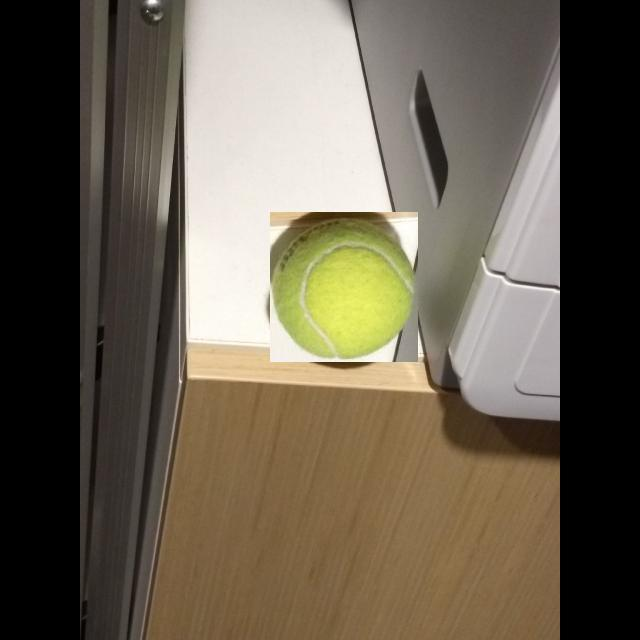tennis ball: (270, 212, 418, 362)
